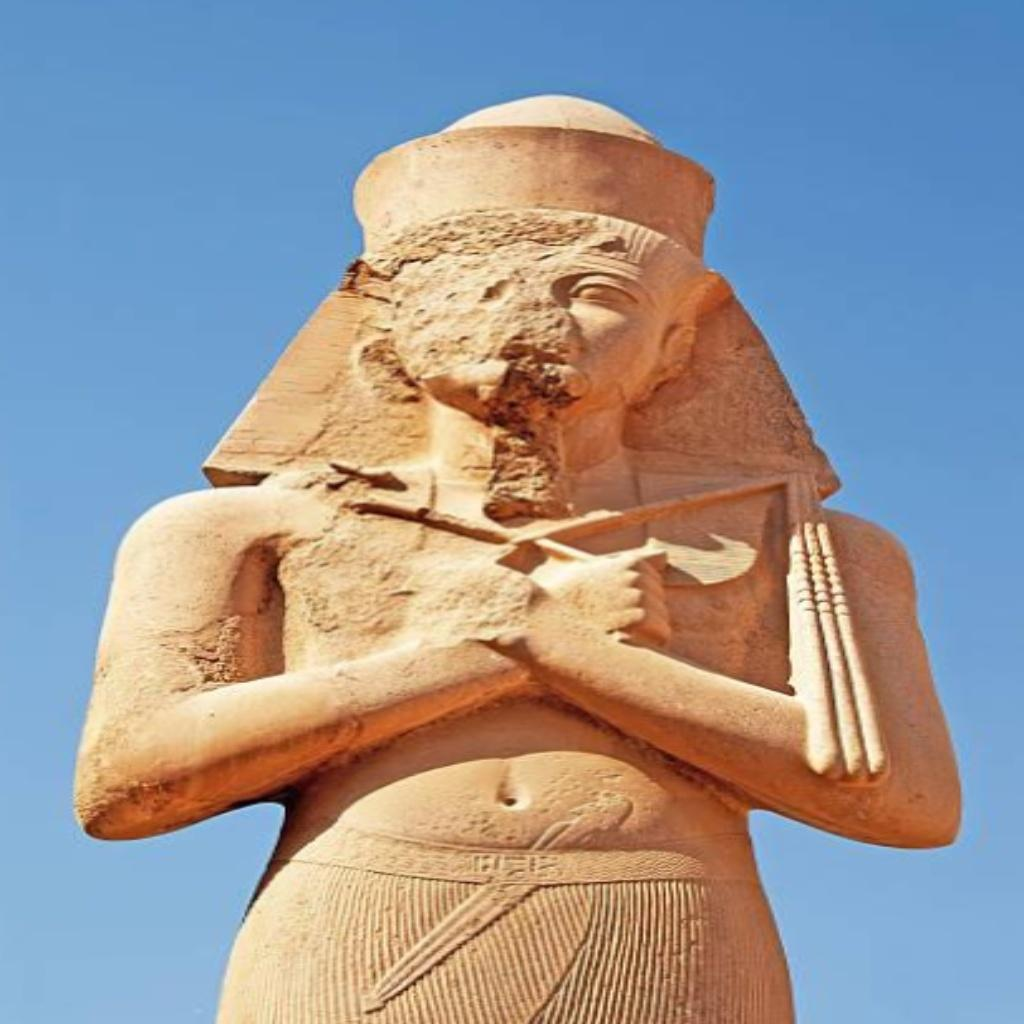Standing Statue of King Ramses II: (66, 86, 974, 1022)
